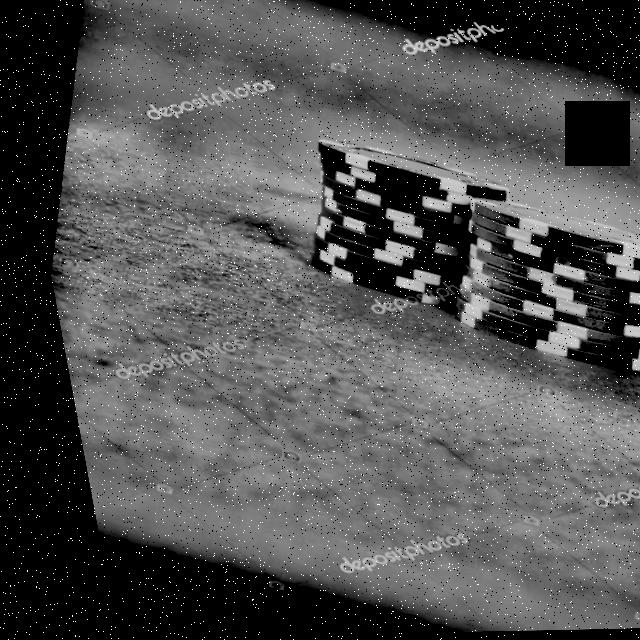Chip: (249, 109, 548, 345), (400, 174, 640, 407)
